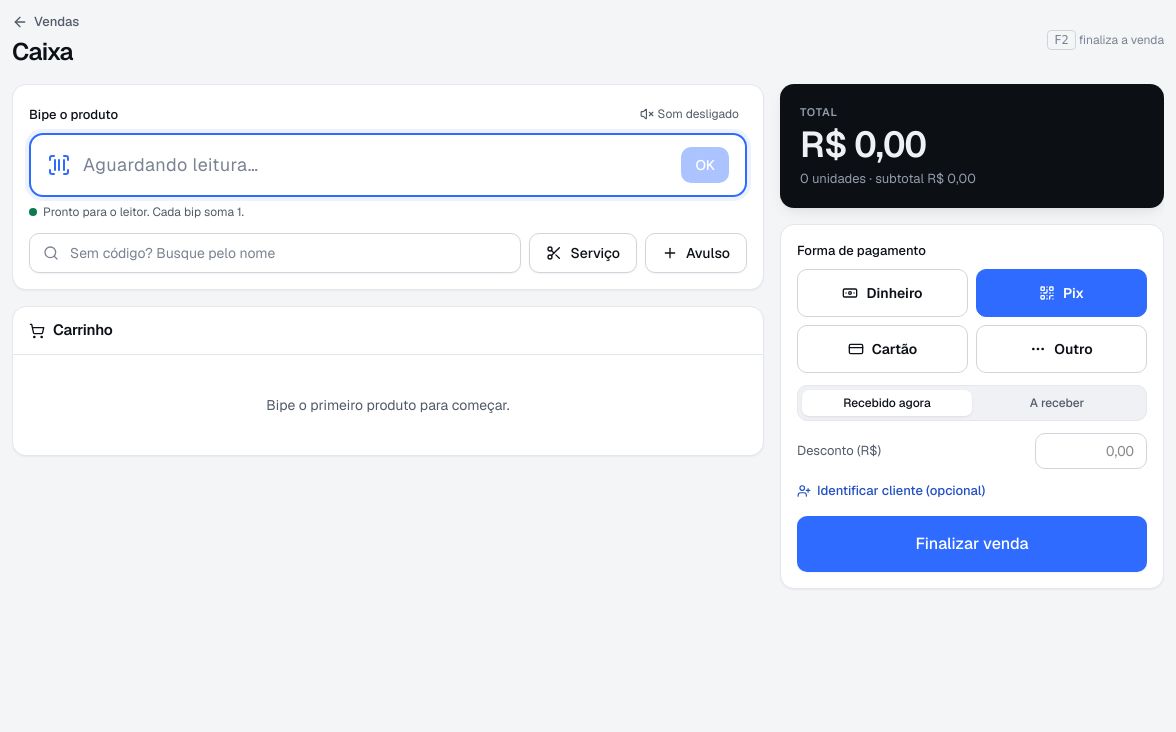
Test: Caixa (PDV) › finalizar envia a venda e mostra "Venda concluída." com numero, total e forma de pagamento
Type "7891000000011" into the field labelled "Bipe o produto" at (376, 165), box [83,135,670,195]
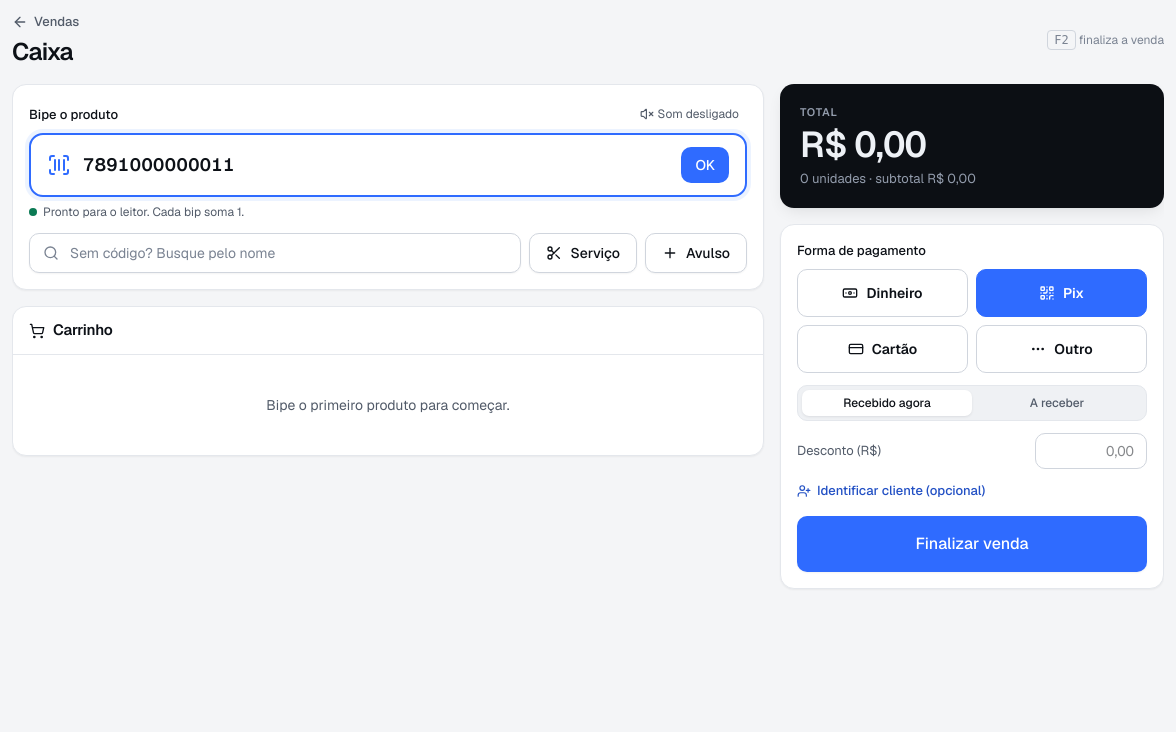
Press Enter in the field labelled "Bipe o produto", box [83,135,670,195]
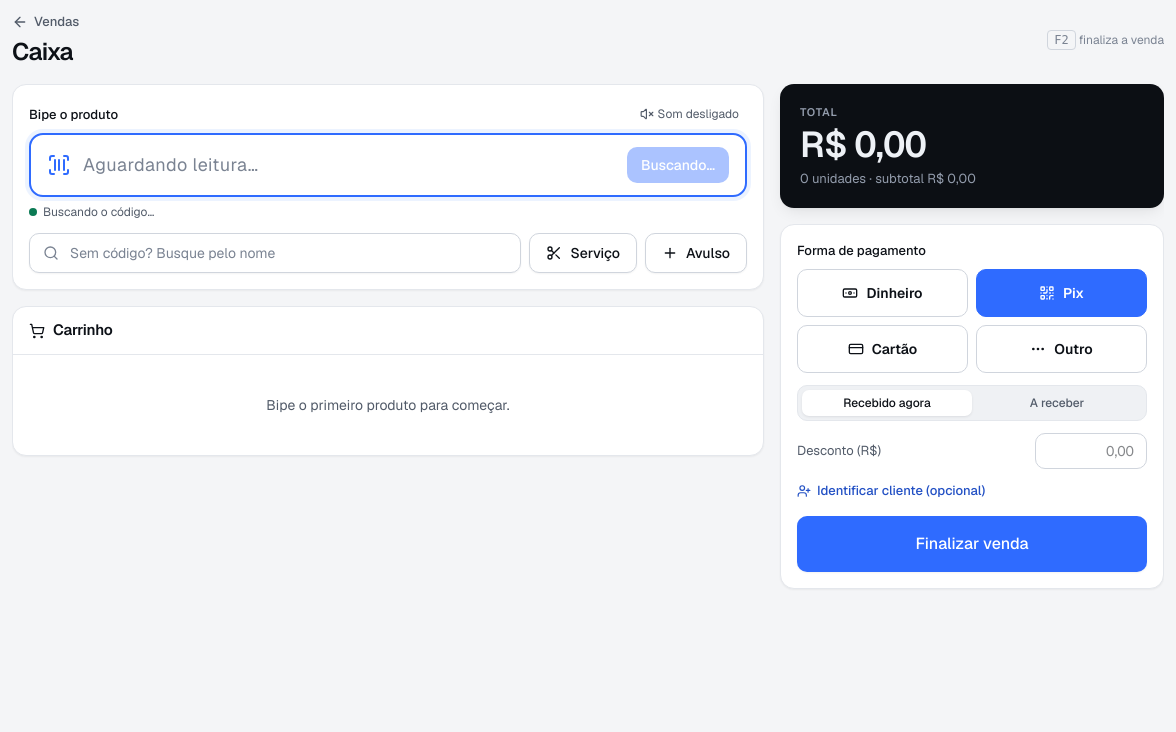
Type "7891000000011" into the field labelled "Bipe o produto" at (349, 165), box [83,135,615,195]
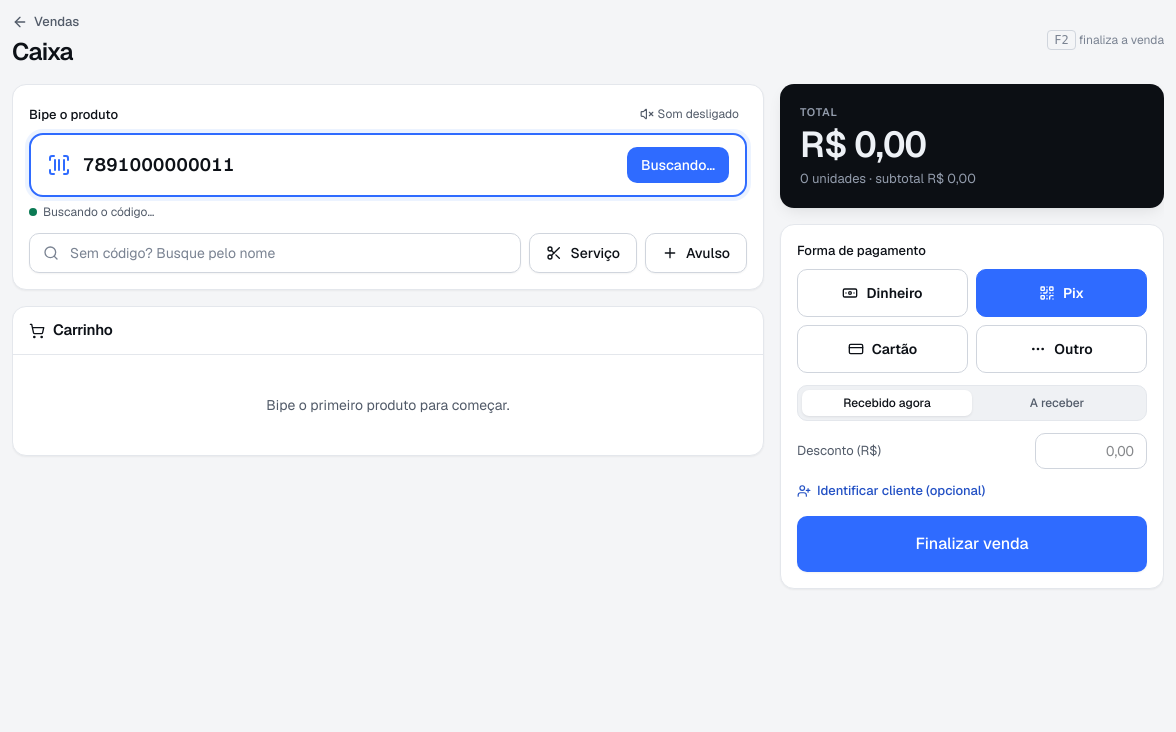
Press Enter in the field labelled "Bipe o produto", box [83,135,615,195]
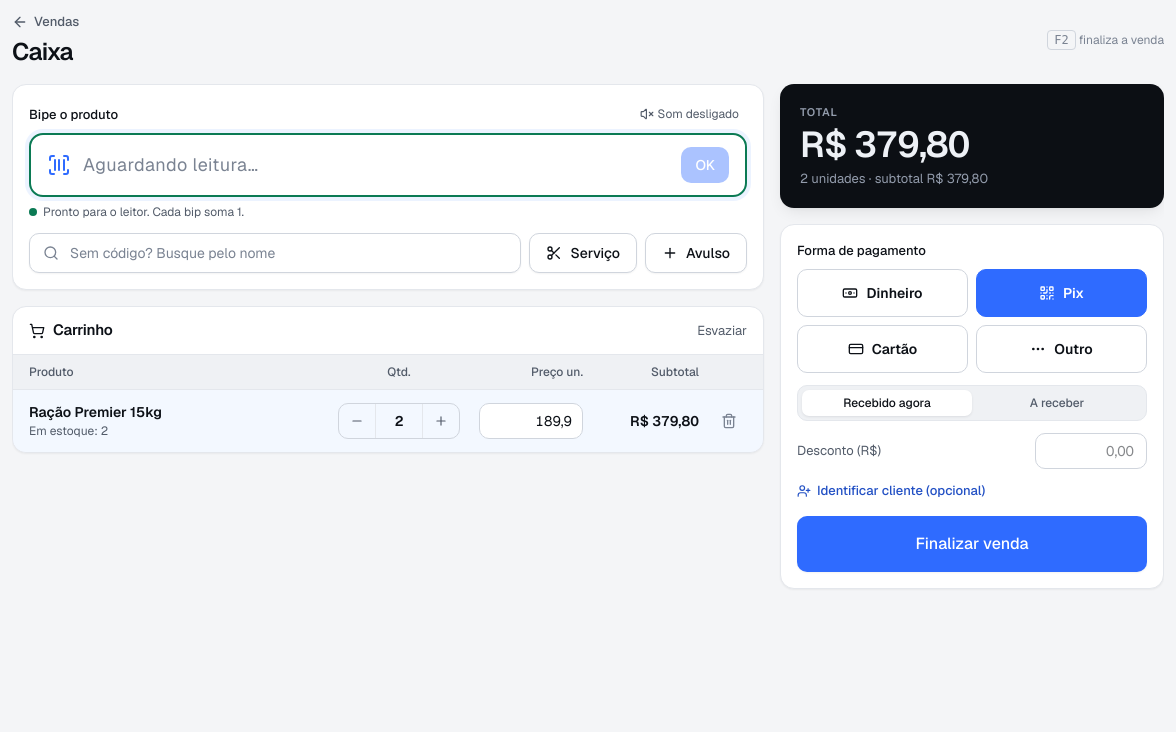
Check: the field named "Quantidade de Ração Premier 15kg" holds "2", box [375,404,423,438]
Click the radio button labelled "Dinheiro" at (882, 293), box [797,269,968,317]
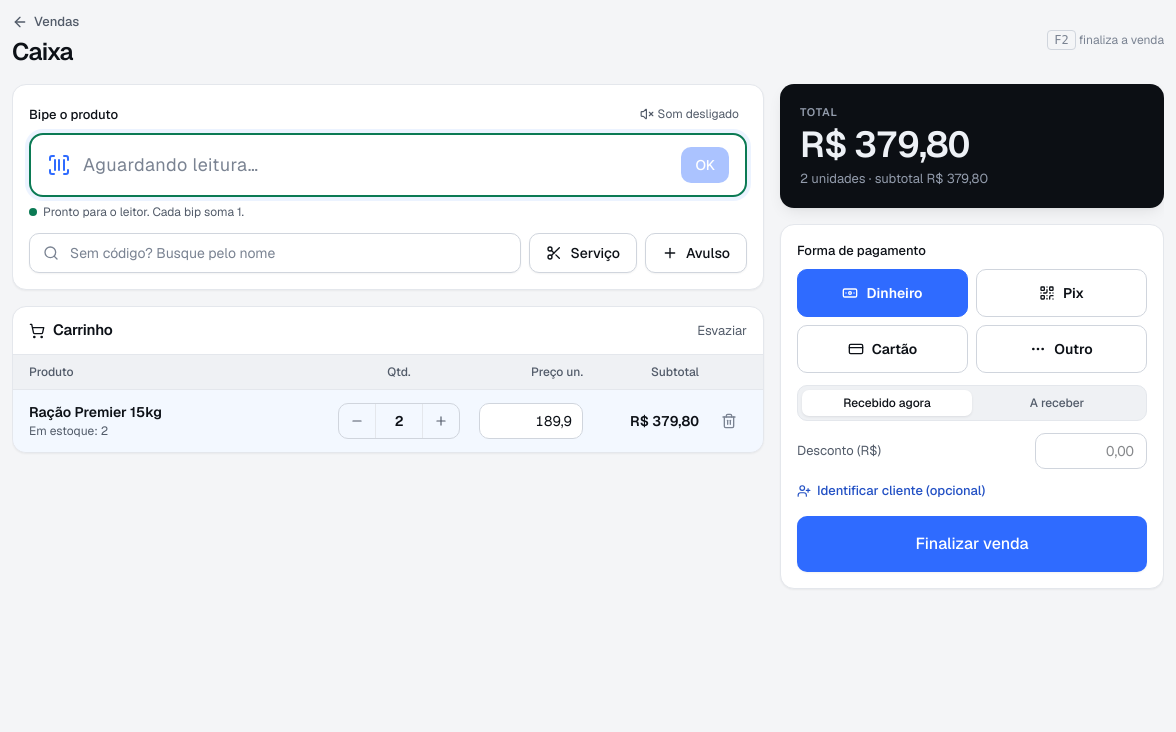
Click the button "Finalizar venda" at (972, 544), box [797,516,1147,572]
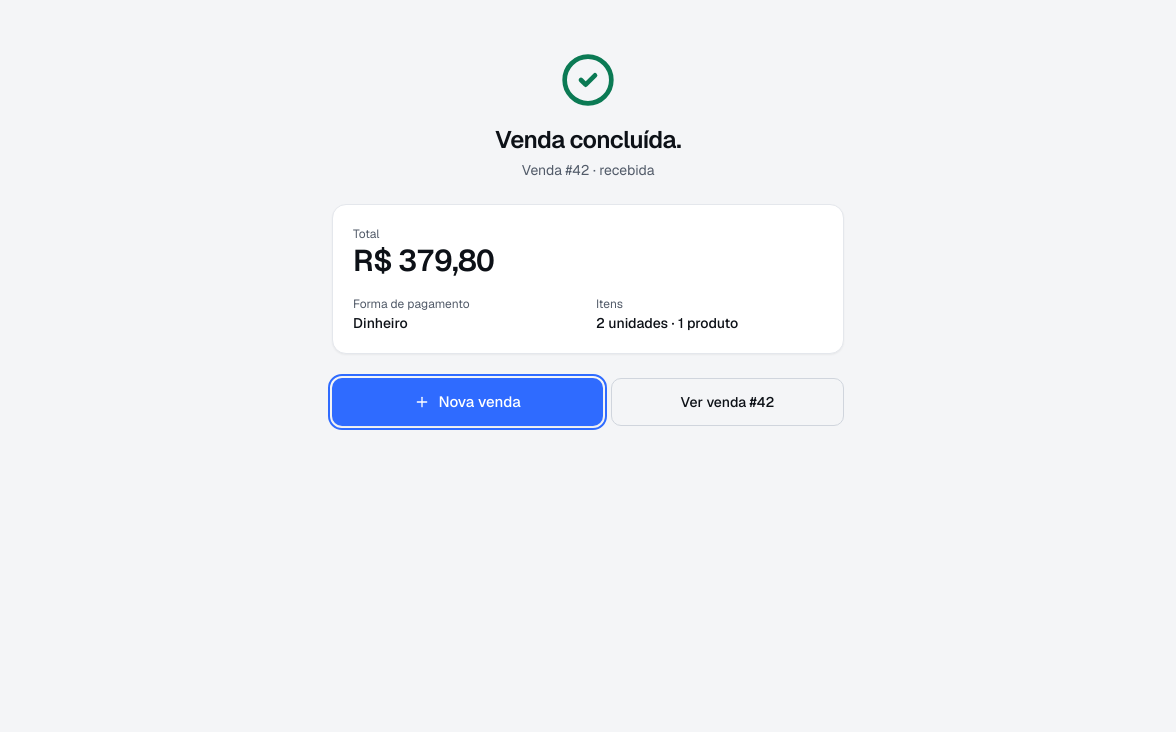
Check: the heading "Venda concluída." is shown, box [495,124,681,156]
Check: the text "Venda #42 · recebida" is shown, box [522,160,654,180]
Check: the button "Nova venda" is shown, box [332,378,603,426]
